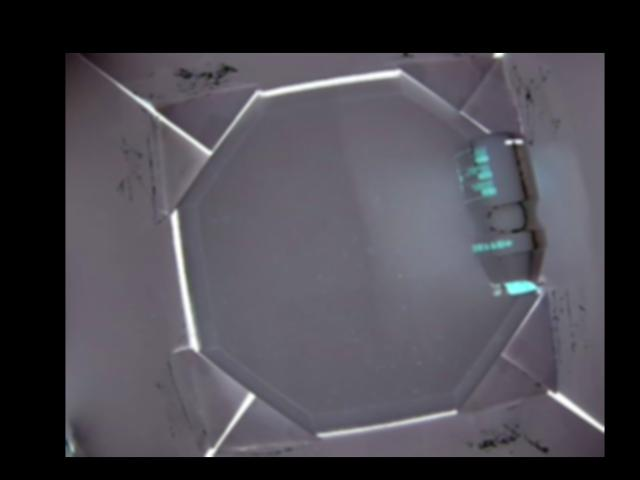Bottle: (452, 132, 546, 294)
